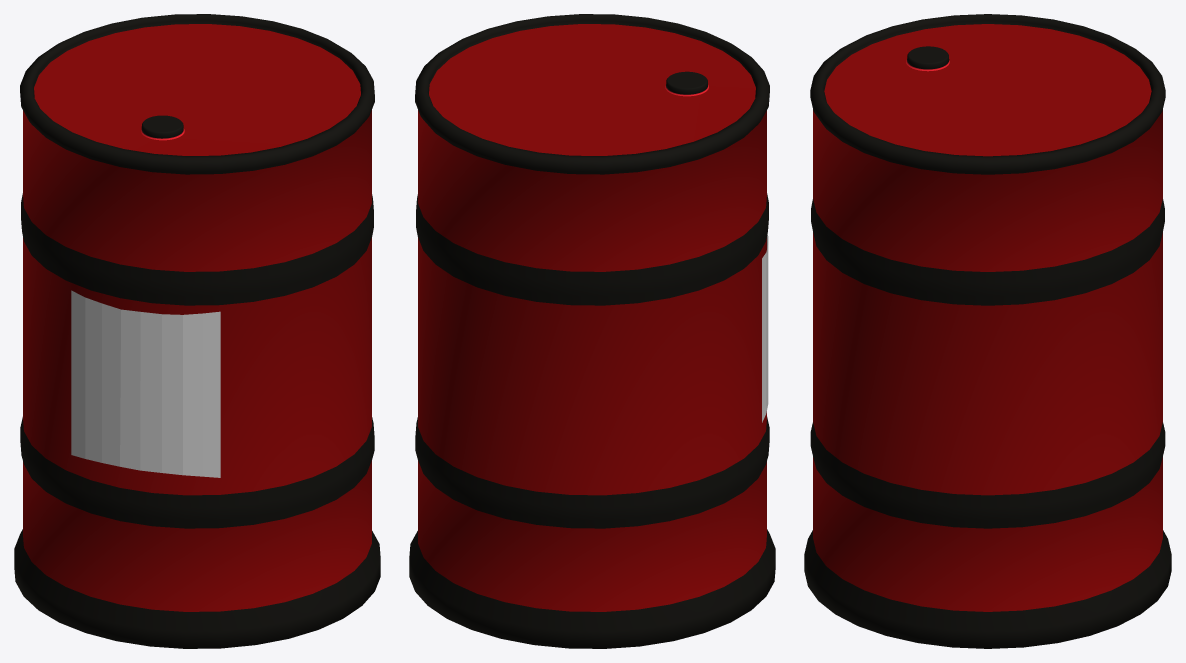
The model's file is barrel 1.fbx.
3 renders of one model, left to right at view 1: azimuth 30°, elevation 25°; view 2: azimuth 150°, elevation 25°; view 3: azimuth 270°, elevation 25°, orthographic.
Visible parts, largest first — view 1: Cylinder, Przechwytywanie; view 2: Cylinder, Przechwytywanie; view 3: Cylinder.
Boxes of the visible parts, <box> form: Cylinder: <box>14,14,380,648</box>; Przechwytywanie: <box>71,290,220,477</box>; Cylinder: <box>409,14,775,648</box>; Przechwytywanie: <box>762,234,768,422</box>; Cylinder: <box>804,14,1171,648</box>.
Bounding box in the file's own units: 361 × 526 × 361.
